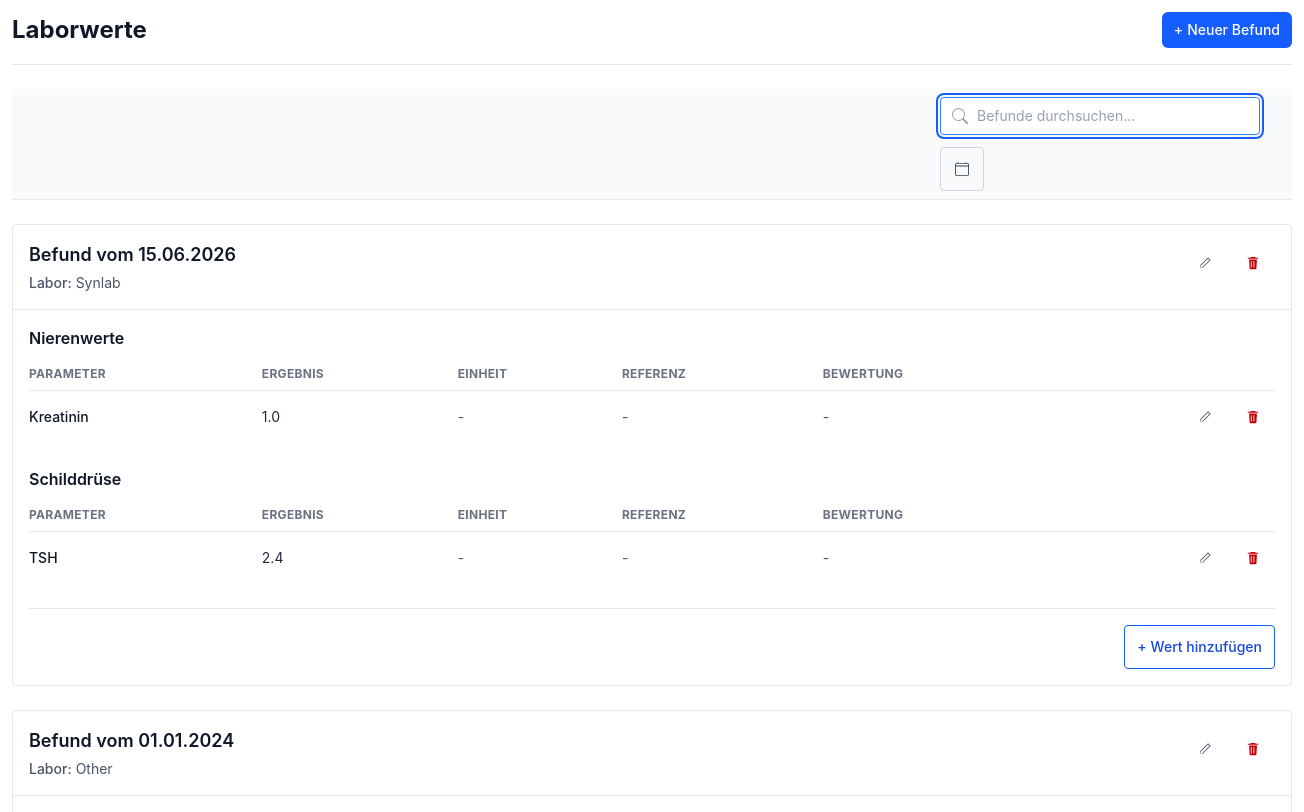
it: LabValuesView › search filter (P-22b) › renders prev/next match-nav buttons when the query produces >= 2 marks (P-22b/c/d-polish-2)
Type "n" into the search field at {"x": 1100, "y": 116}, box [940,97,1260,135]
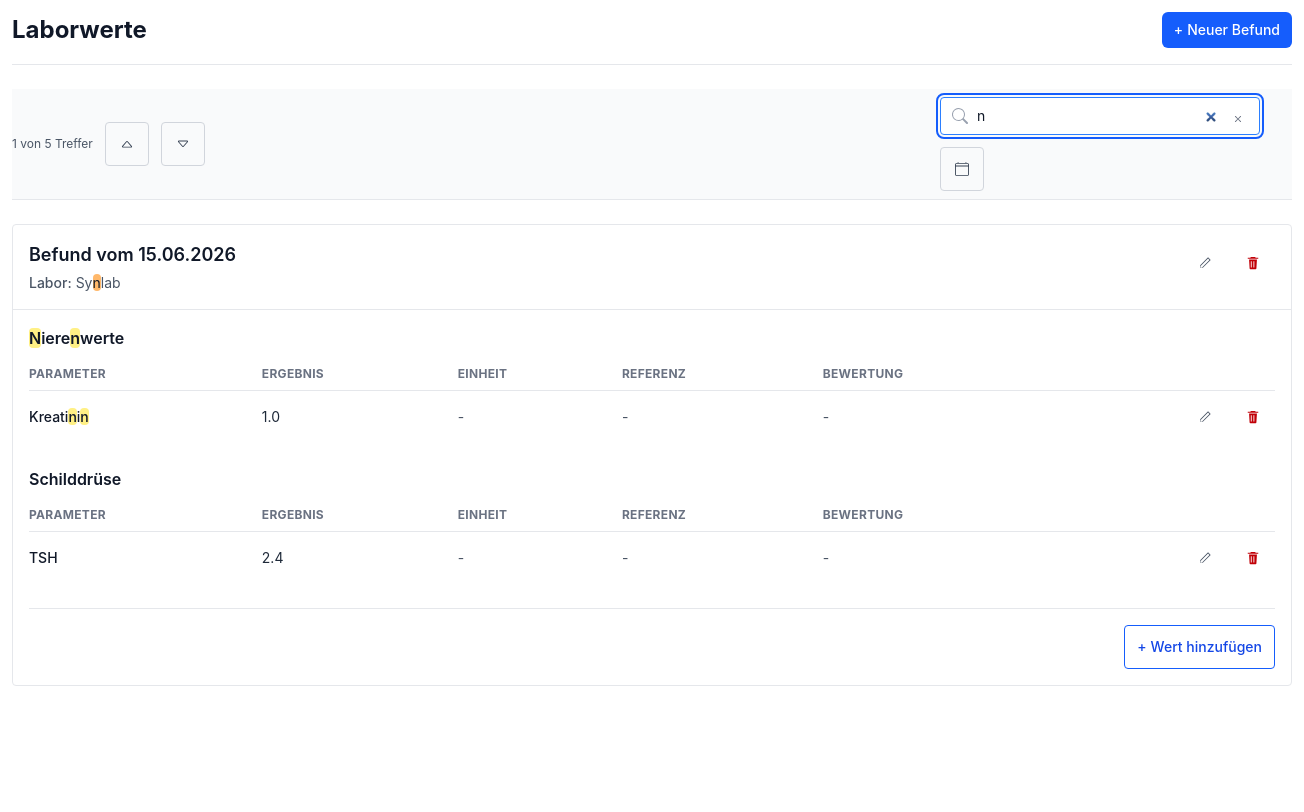
Now the button with test id "lab-values-search-prev" is shown, box [105,122,149,166]
Now the button with test id "lab-values-search-next" is shown, box [161,122,205,166]
